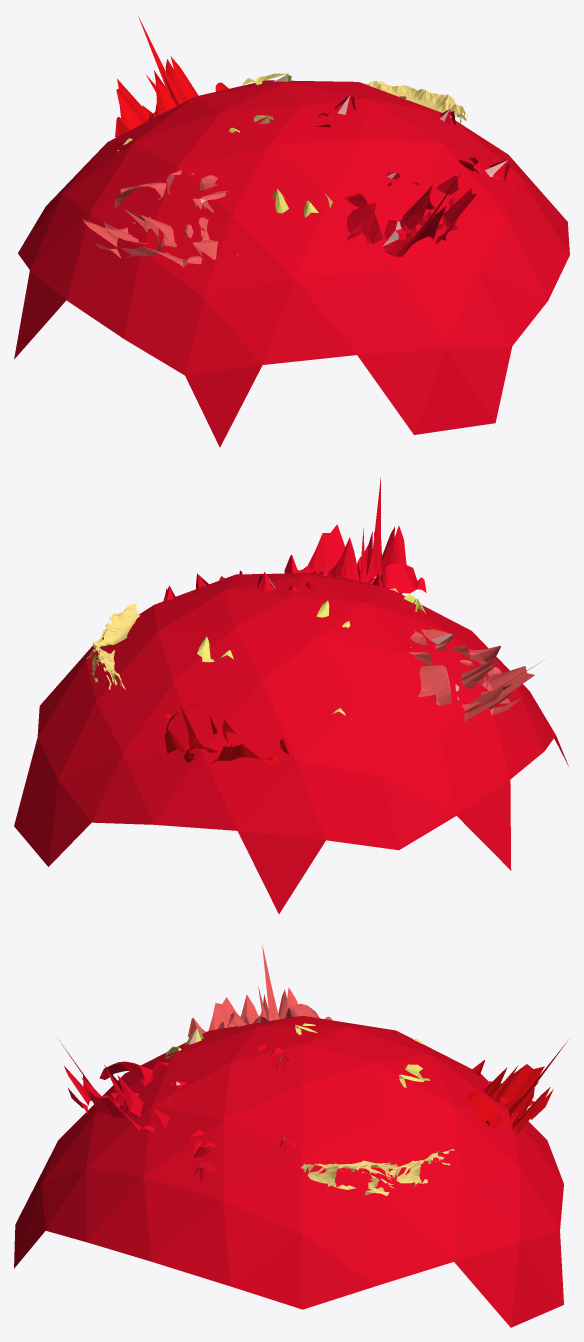
The model's file is LandscapeAnfora.glb.
3 renders of one model, top to bottom at view 1: azimuth 30°, elevation 25°; view 2: azimuth 150°, elevation 25°; view 3: azimuth 270°, elevation 25°, orthographic. The views are drawn at different scales.
Parts seen in each view (by area): view 1: Icosphere.001, Plane.001, Plane.002, Plane.005, Plane.003, Plane.008; view 2: Icosphere.001, Plane.001, Plane.002, Plane.005, Plane.003, Plane.004; view 3: Icosphere.001, Plane.005, Plane.001, Plane.002, Plane.003, Plane.004, Plane.008.
Part boxes in pixels (box(x1,y1,x2,y2)): Icosphere.001: box(14, 80, 569, 447); Plane.001: box(345, 171, 476, 256); Plane.002: box(81, 170, 238, 267); Plane.005: box(115, 16, 228, 137); Plane.003: box(402, 85, 467, 123); Plane.008: box(458, 157, 510, 181); Icosphere.001: box(14, 573, 568, 913); Plane.001: box(284, 477, 426, 594); Plane.002: box(409, 629, 541, 721); Plane.005: box(164, 703, 289, 764); Plane.003: box(86, 604, 140, 658); Plane.004: box(92, 645, 125, 690); Icosphere.001: box(14, 1015, 563, 1327); Plane.005: box(467, 1041, 567, 1135); Plane.001: box(59, 1040, 186, 1132); Plane.002: box(187, 945, 332, 1037); Plane.003: box(301, 1160, 399, 1195); Plane.004: box(389, 1145, 454, 1187); Plane.008: box(189, 1130, 215, 1182).
Bounding box in the file's own units: 12.68 × 5.77 × 12.67.
